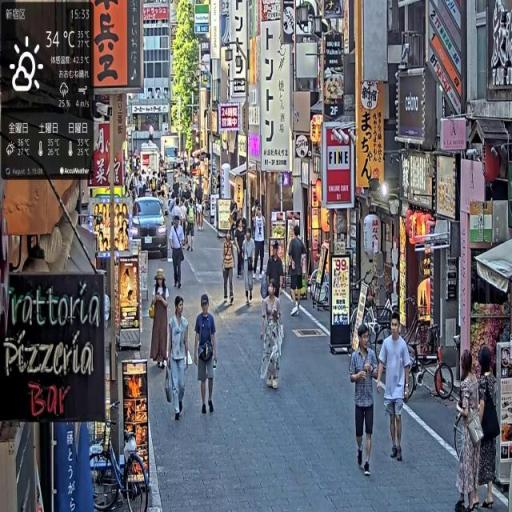person: (377, 314, 414, 467), (454, 348, 484, 512), (351, 321, 382, 479), (477, 346, 504, 510), (166, 296, 191, 425), (195, 294, 219, 416), (261, 279, 284, 394), (149, 271, 172, 369), (288, 226, 308, 315), (169, 215, 187, 291), (222, 230, 238, 307), (266, 243, 285, 306), (253, 203, 268, 278), (243, 230, 257, 308)
